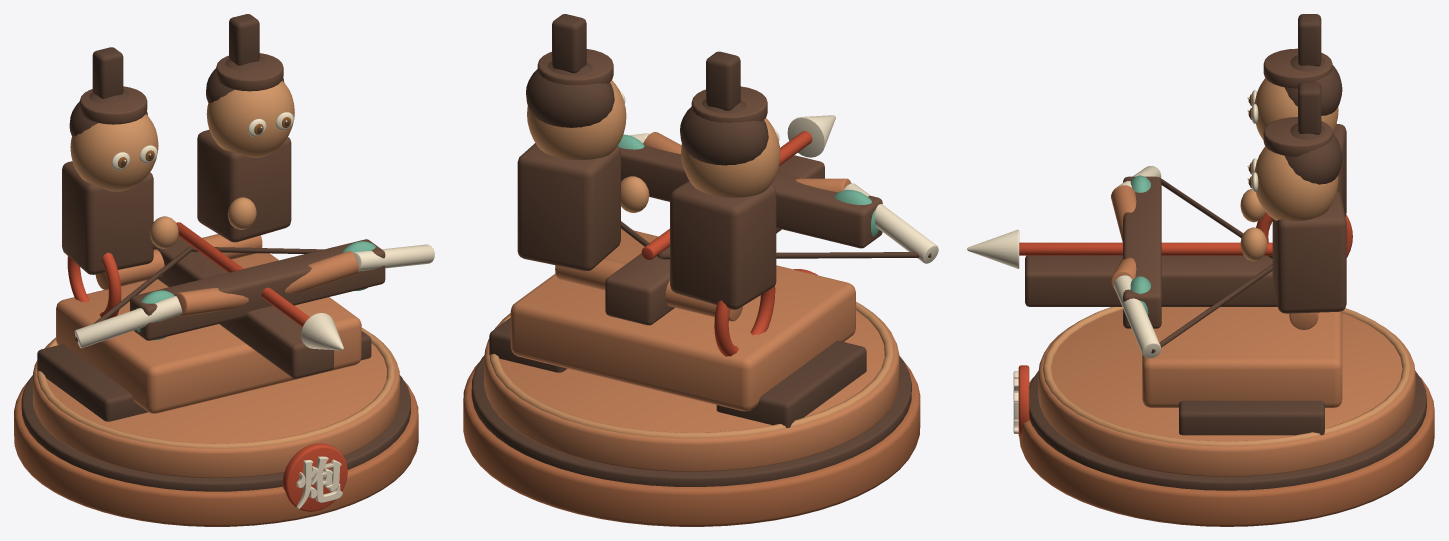
File: red-cannon-terracotta-cartoon-v1.glb
The picture shows the model from 3 angles, left to right: view 1: azimuth 30°, elevation 25°; view 2: azimuth 150°, elevation 25°; view 3: azimuth 270°, elevation 25°; orthographic projection. The views are drawn at different scales.
Parts seen in each view (by area): view 1: Red Cannon Qin Terracotta Cartoon V1 - Joined Mesh; view 2: Red Cannon Qin Terracotta Cartoon V1 - Joined Mesh; view 3: Red Cannon Qin Terracotta Cartoon V1 - Joined Mesh.
Boxes of the visible parts, box(x1,y1,x2,y2) form: Red Cannon Qin Terracotta Cartoon V1 - Joined Mesh: box(14, 14, 434, 526); Red Cannon Qin Terracotta Cartoon V1 - Joined Mesh: box(463, 14, 938, 526); Red Cannon Qin Terracotta Cartoon V1 - Joined Mesh: box(967, 14, 1434, 526).
Size of the model in its own units: 2.19 by 2.23 by 2.43.
